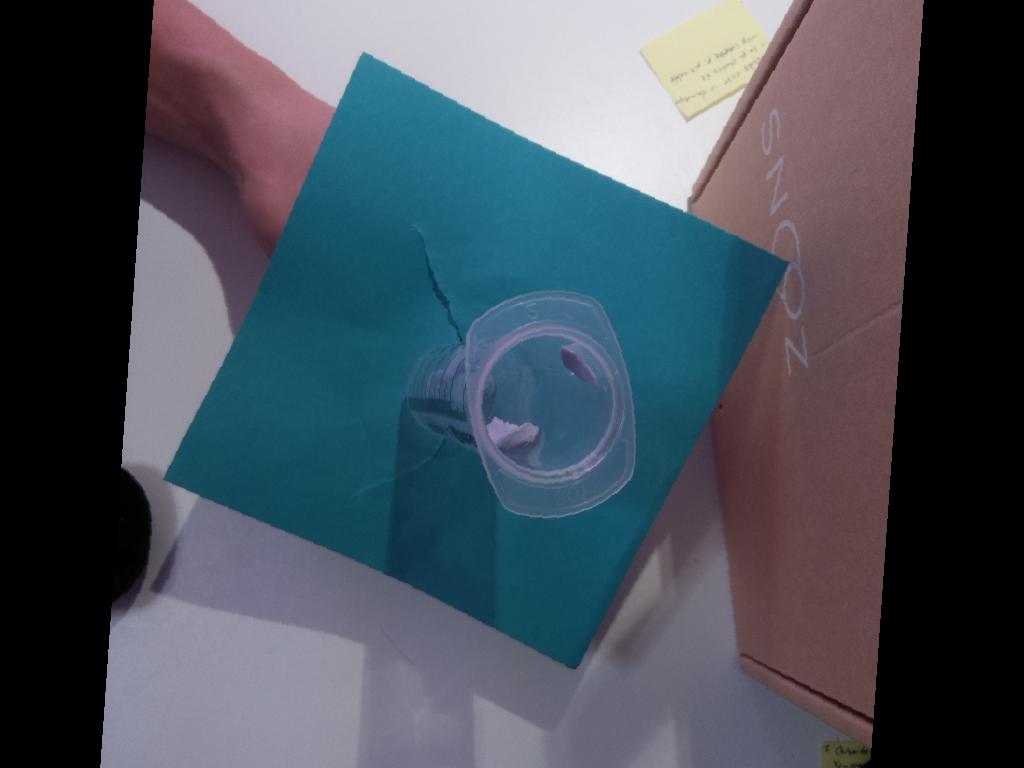dirty: (464, 289, 637, 518)
